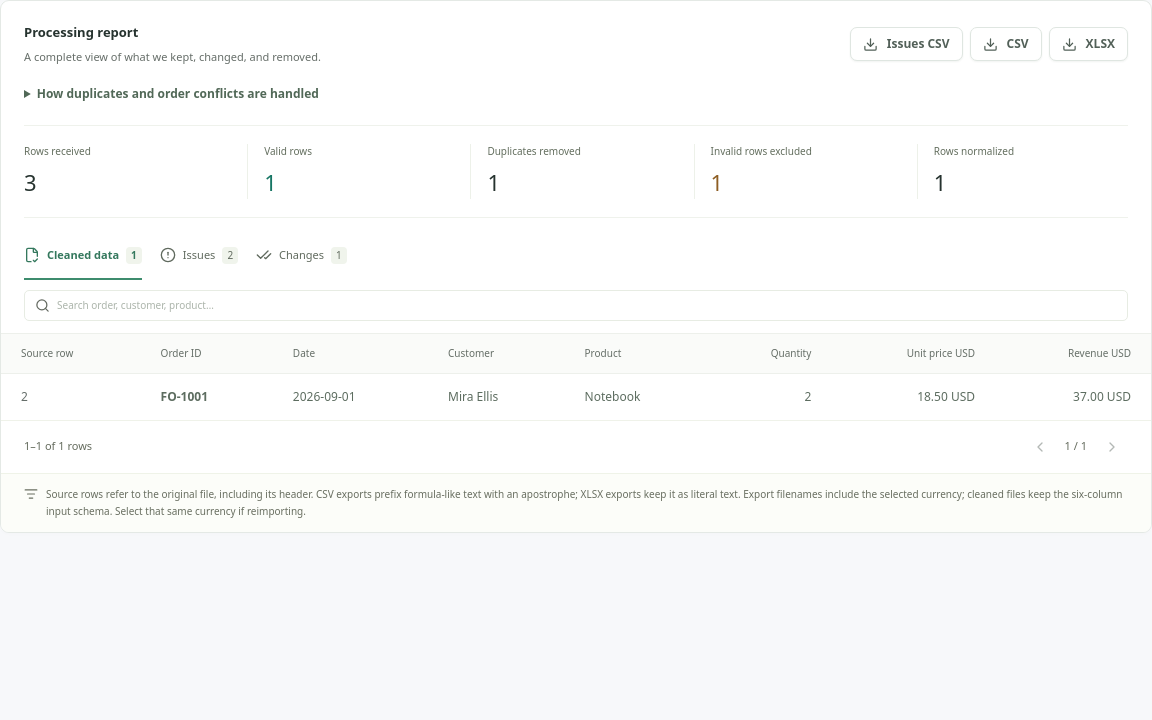
it: surfaces failed downloads instead of saving an error response
Click the button "CSV".
click(1006, 44)  # box [970,27,1042,61]
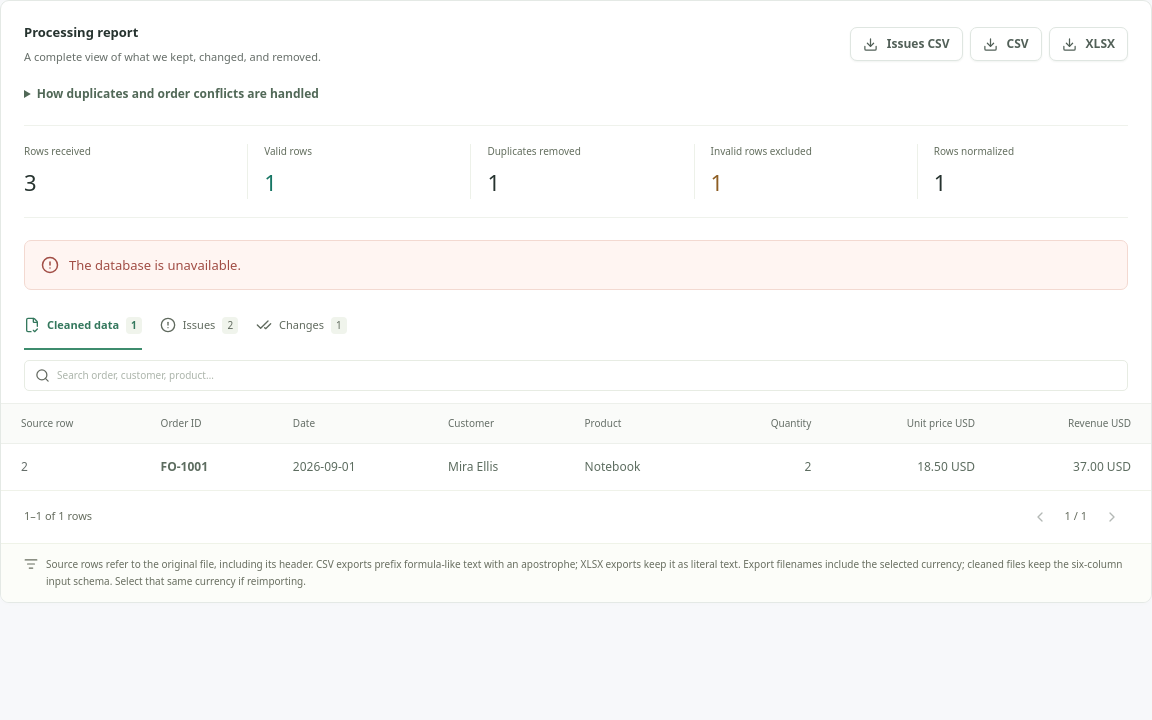
expect the message reads "The database is unavailable.": met, box [69,256,241,274]
